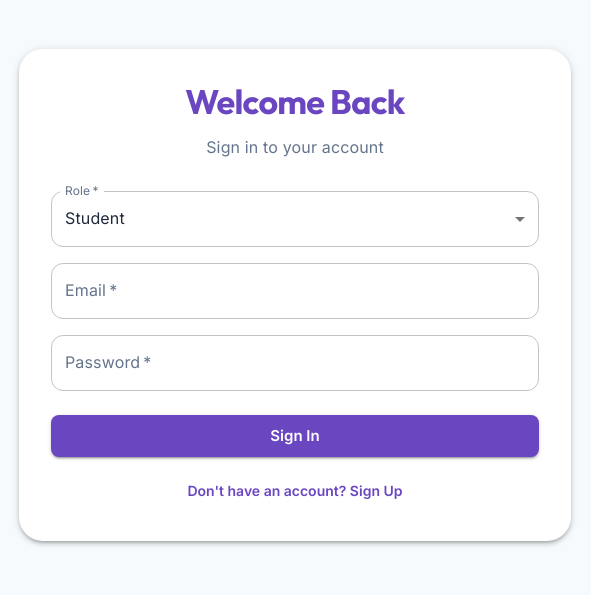
it: HostelMate Signup and Login Flow › shows an error toast for invalid login credentials
Type "fake@example.com" into the field labelled "Email *" at (295, 291), box [51,263,539,319]
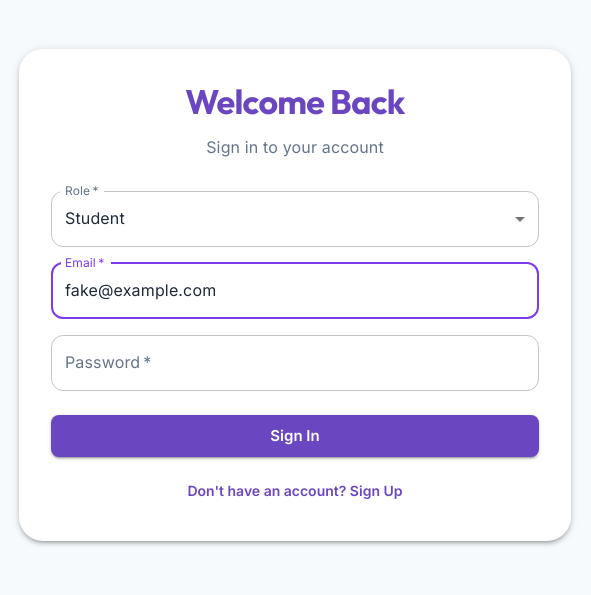
Type "wrongpassword123" into the password field labelled "Password *" at (295, 363), box [51,335,539,391]
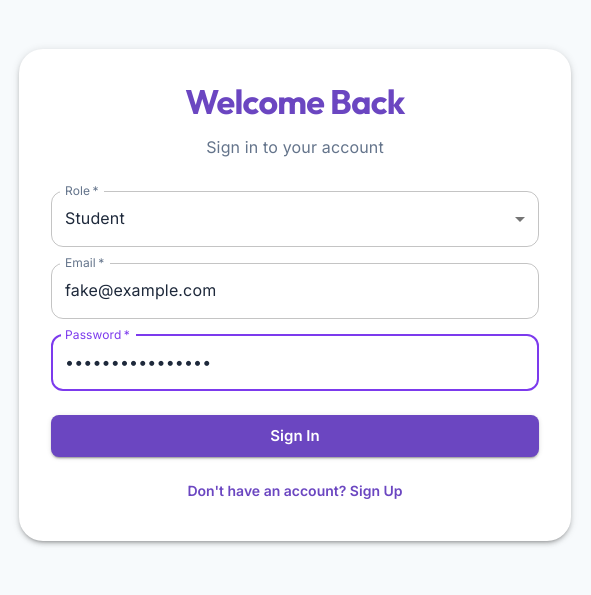
# Assuming standard MUI or generic button wrapping
Click the submit button at (295, 436), box [51,415,539,457]
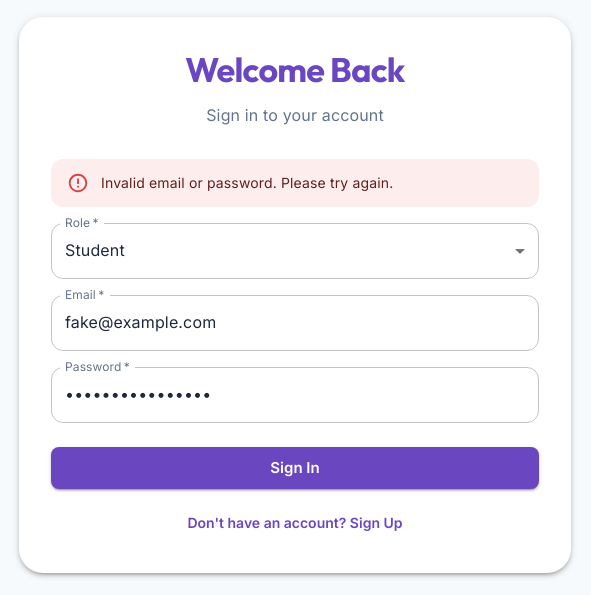
Check: the text "Invalid email or password. Please try again." is shown, box [101,174,393,190]
